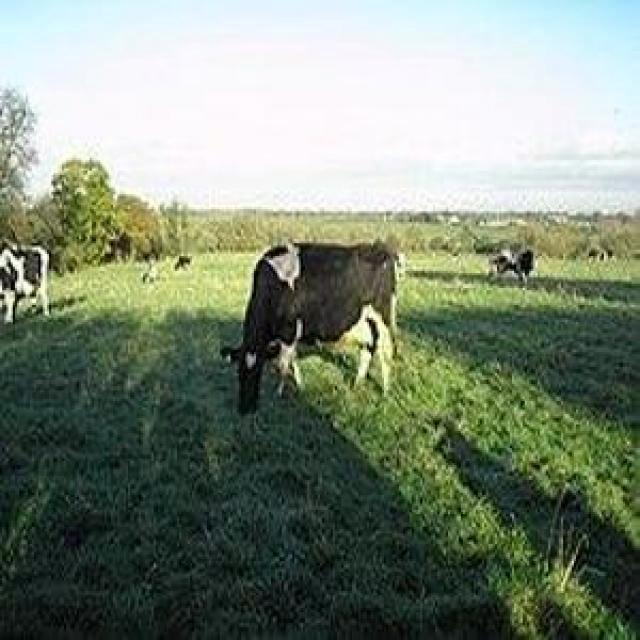cow: (230, 242, 399, 413)
